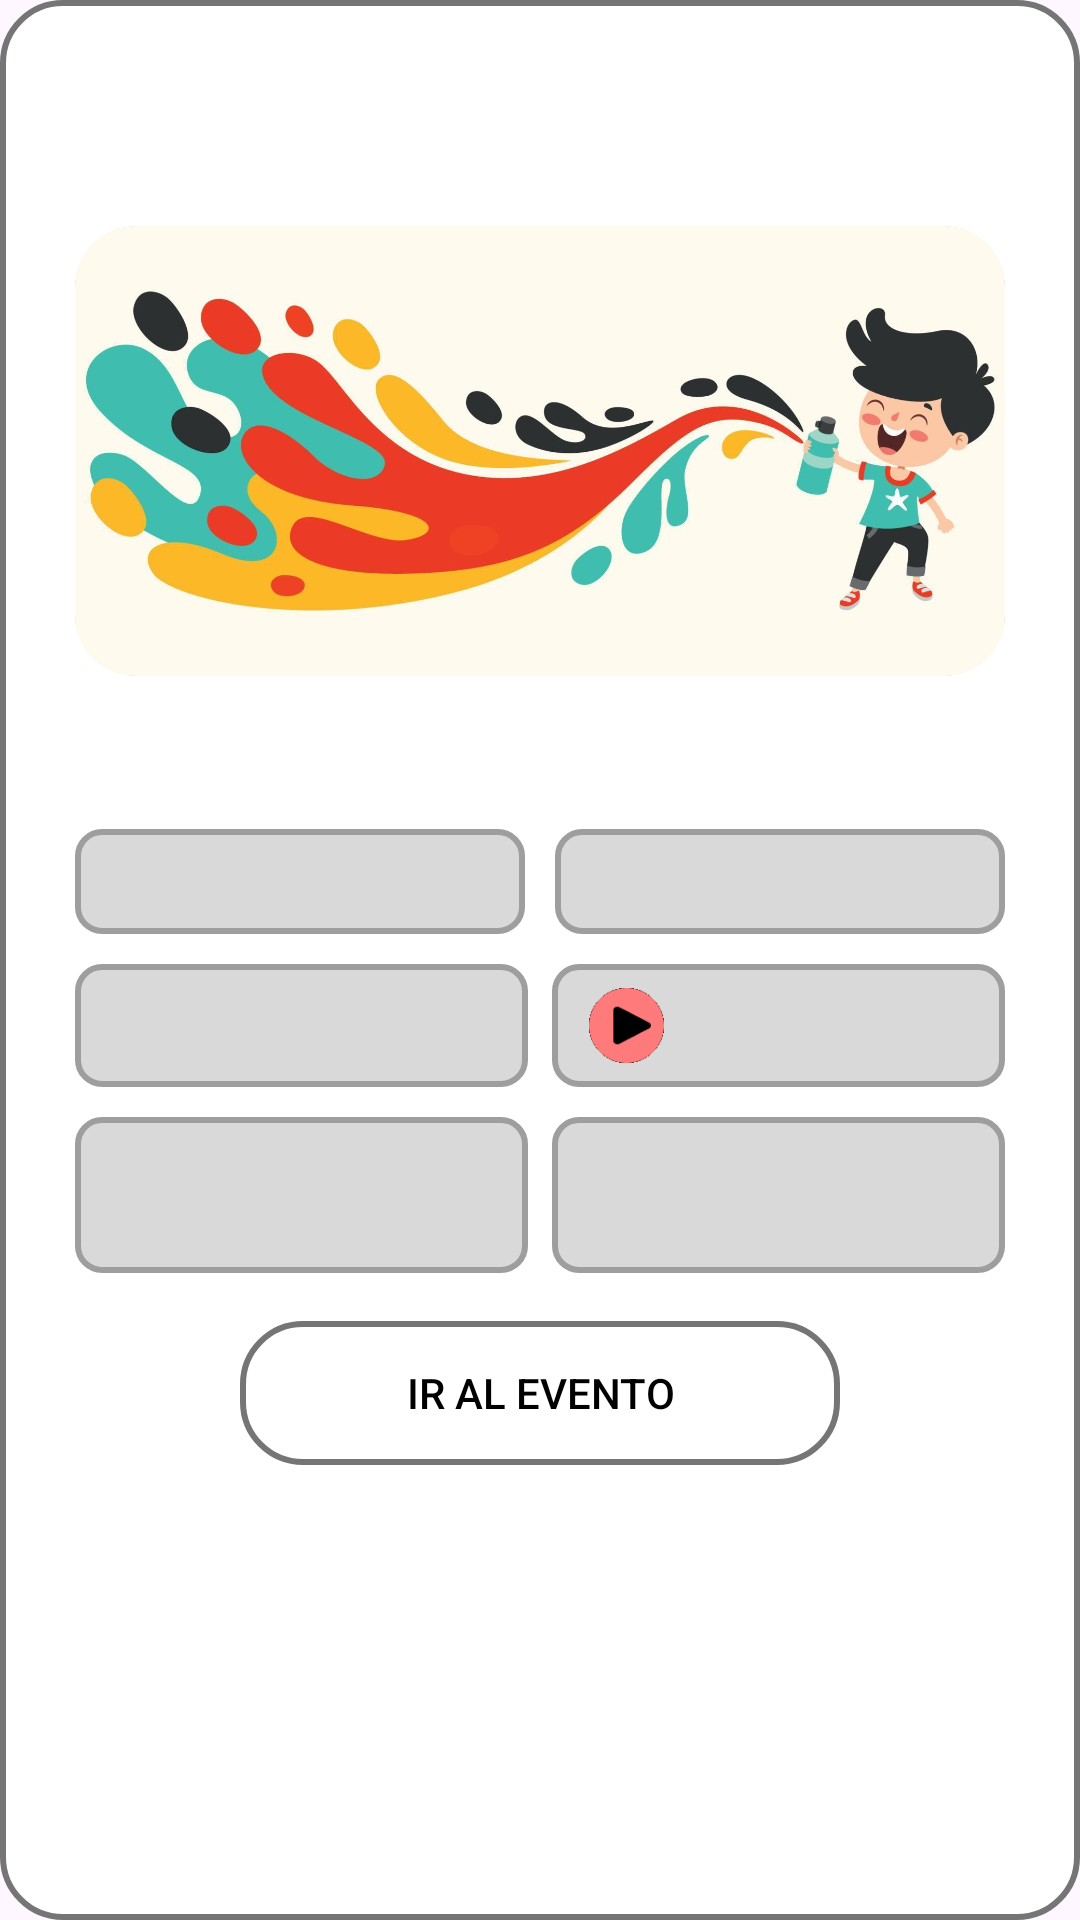

Screen size 1080×1920. Icon name, then its box in pixels as (x1, y1, x2, y2):
Icono de categoria del evento: (589, 988, 664, 1063)
